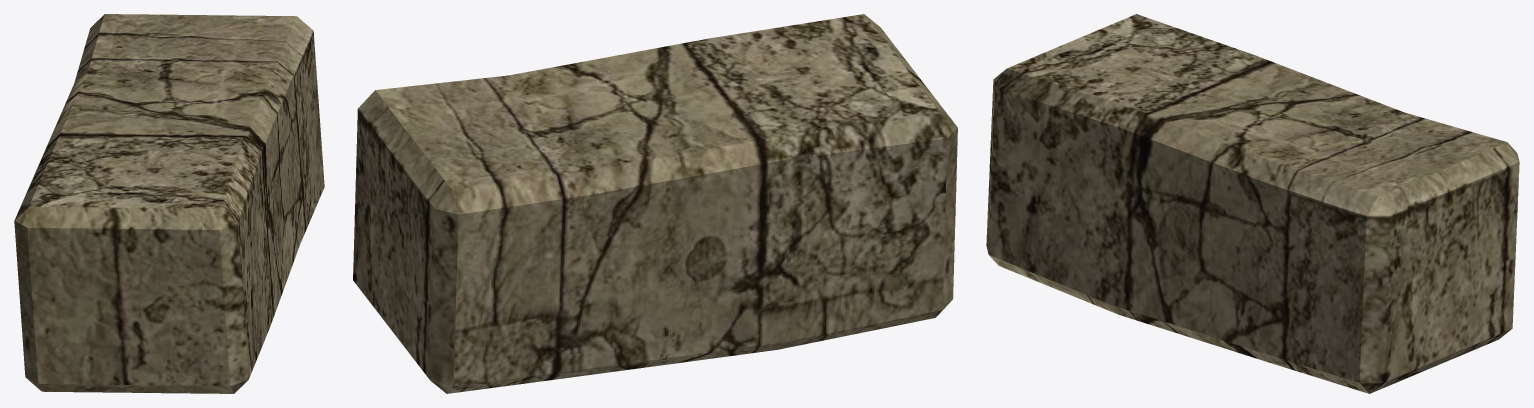
The model's file is tw2_5_dun_addons_01_14-transformed.glb.
3 renders of one model, left to right at view 1: azimuth 30°, elevation 25°; view 2: azimuth 150°, elevation 25°; view 3: azimuth 270°, elevation 25°, orthographic. The views are drawn at different scales.
Parts seen in each view (by area): view 1: 5_DUN_ADDONS_01_14; view 2: 5_DUN_ADDONS_01_14; view 3: 5_DUN_ADDONS_01_14.
Boxes of the visible parts, bbox=[...] form: 5_DUN_ADDONS_01_14: bbox=[14, 14, 324, 393]; 5_DUN_ADDONS_01_14: bbox=[353, 14, 957, 393]; 5_DUN_ADDONS_01_14: bbox=[986, 14, 1519, 393].
Bounding box in the file's own units: 1.8 × 0.8534 × 1.93.
1 material, 1 textured.
